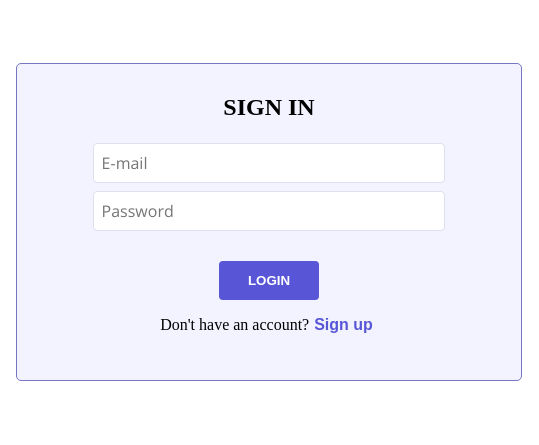
Test: Authentication › should switch to Sign Up when clicked button
Click the button "Sign up".
click(344, 325)  # box [309,316,378,334]
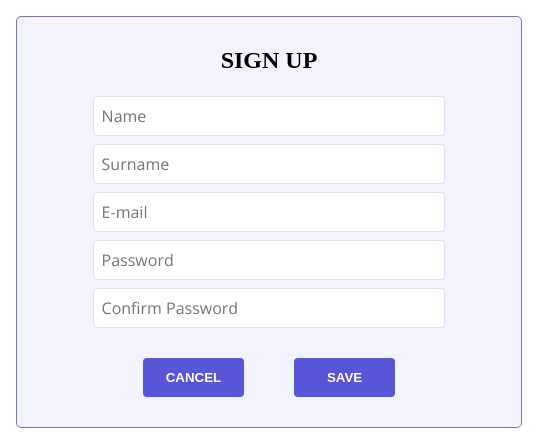
Expected: the heading "SIGN UP" is shown, [221,47,317,74]
